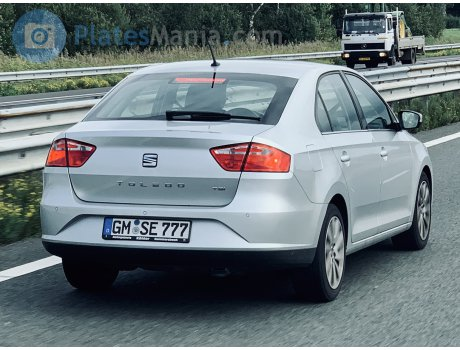License Plates: (110, 217, 188, 236)
